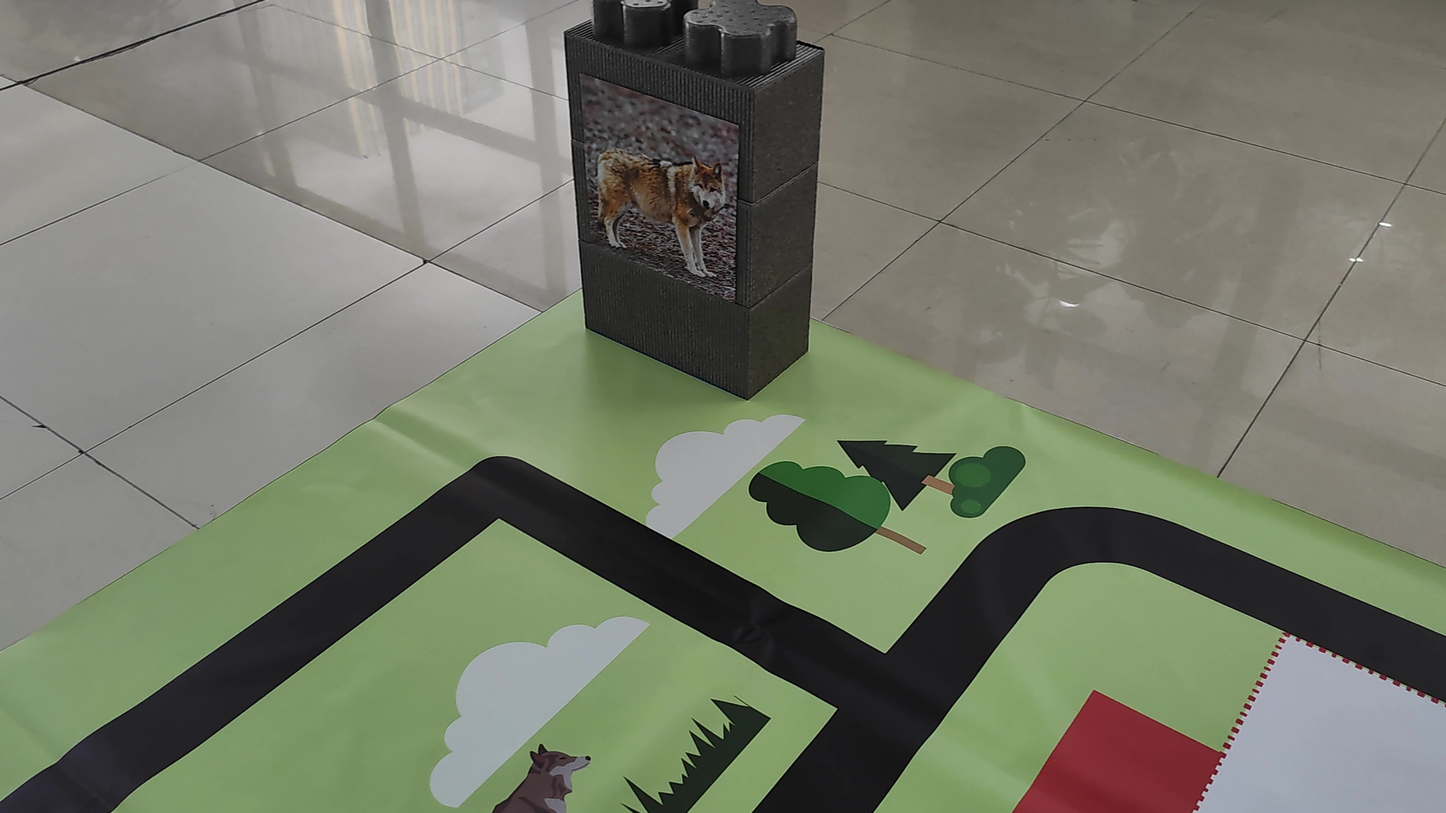wolf: (582, 79, 743, 276)
